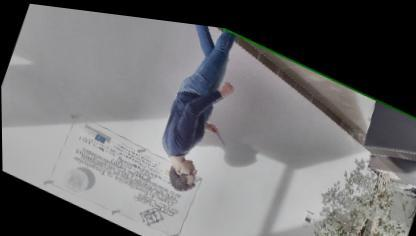knife: (206, 118, 232, 142)
